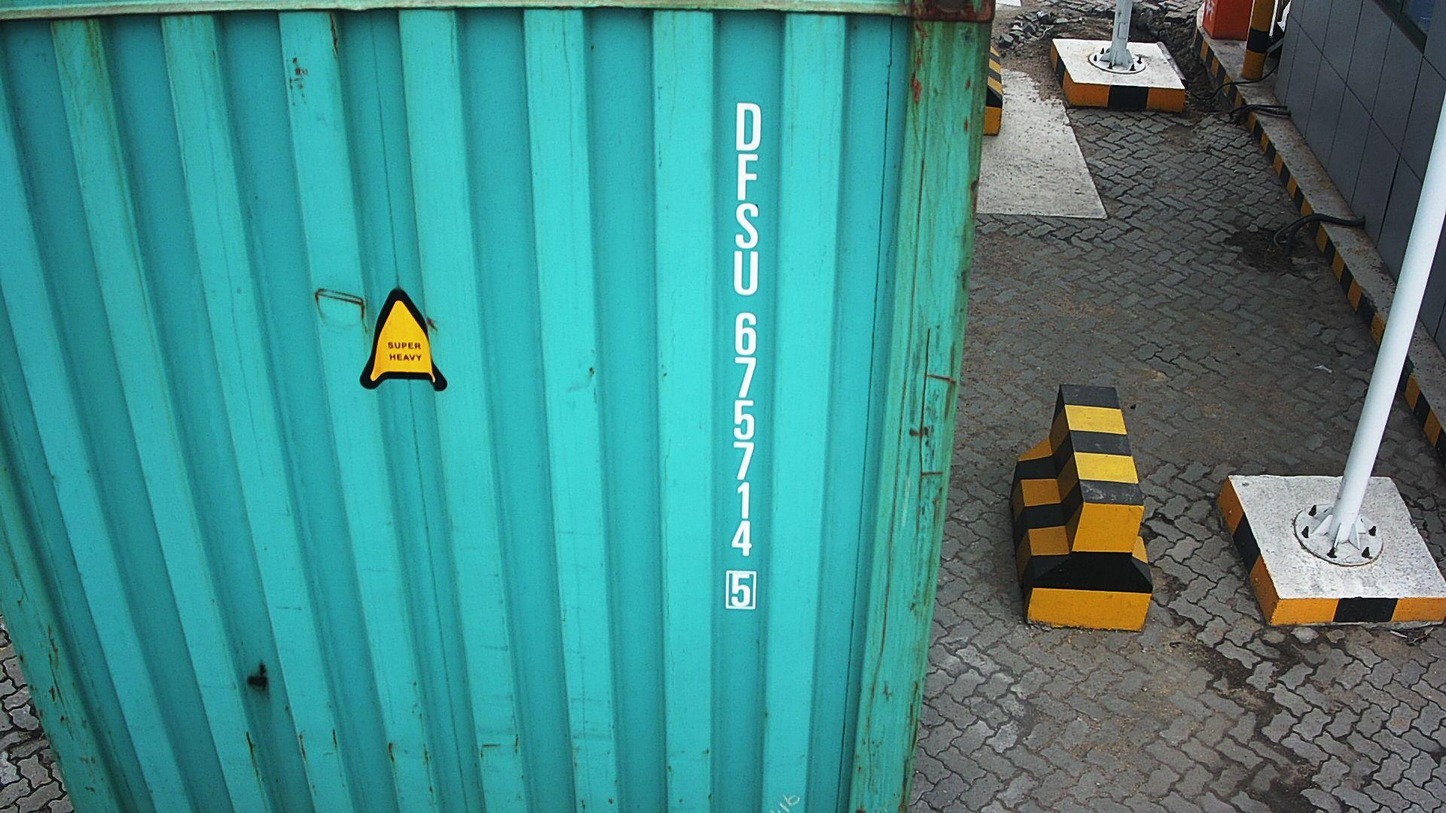container-numbers: (715, 92, 770, 617)
